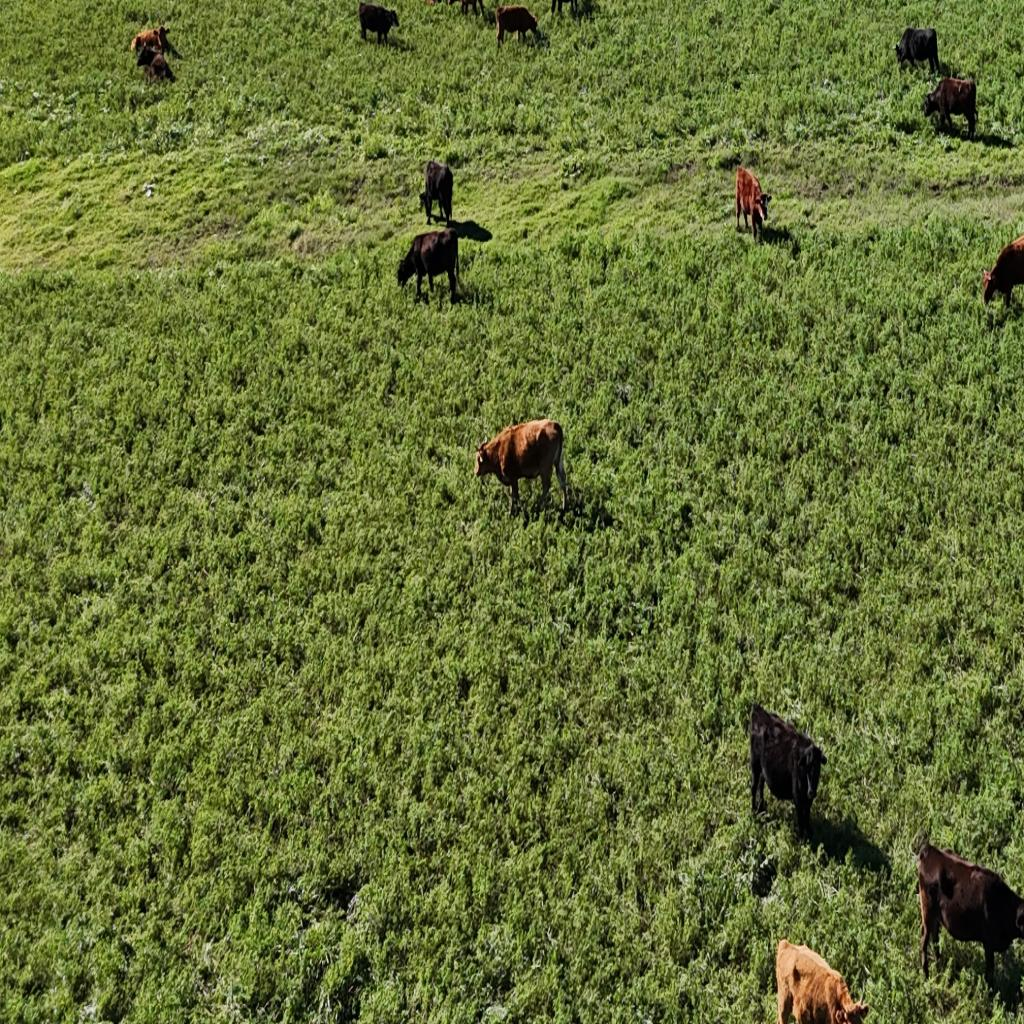cow: (914, 840, 1023, 994), (749, 706, 825, 844), (472, 418, 568, 513), (774, 936, 869, 1021), (395, 231, 462, 308), (921, 75, 978, 143), (980, 225, 1024, 311), (736, 168, 772, 244), (894, 24, 942, 75), (419, 158, 453, 226), (495, 4, 540, 47), (358, 2, 400, 48), (129, 25, 175, 58), (141, 50, 175, 84), (459, 0, 487, 19), (551, 0, 579, 17)
